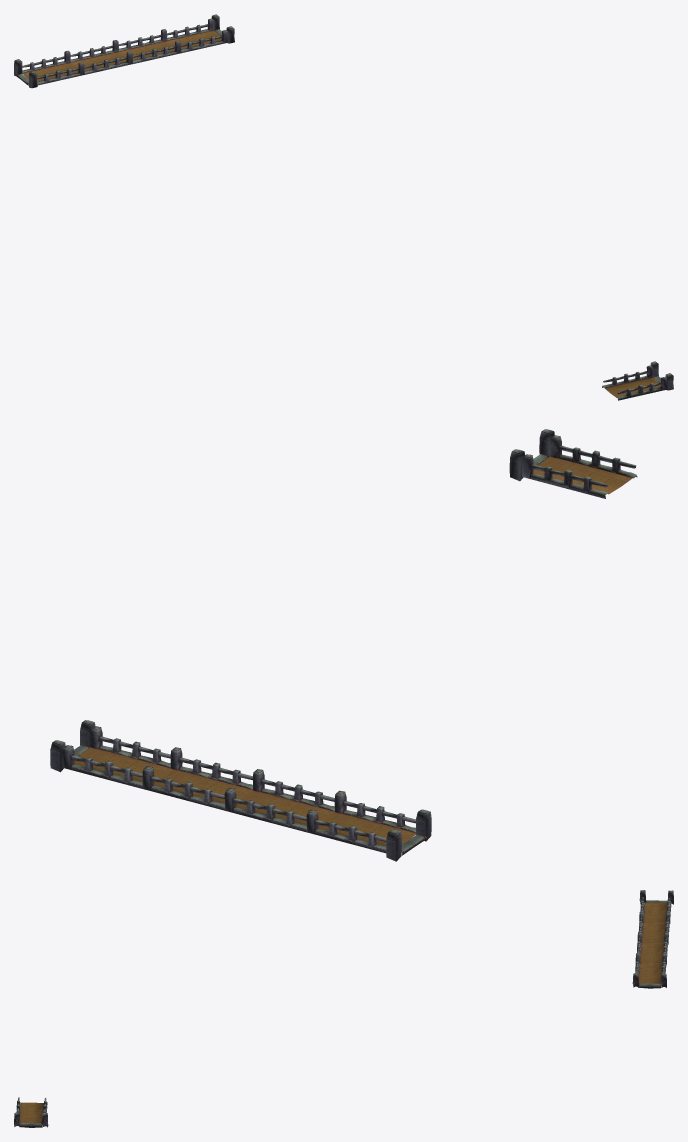
The model's file is Bridge.FBX.
The picture shows the model from 3 angles, top to bottom: view 1: azimuth 30°, elevation 25°; view 2: azimuth 150°, elevation 25°; view 3: azimuth 270°, elevation 25°; orthographic projection. The views are drawn at different scales.
Visible parts, largest first — view 1: Bridge_Low001; view 2: Bridge_Low001; view 3: Bridge_Low001.
Boxes of the visible parts, x1,y1,x2,y2 form: Bridge_Low001: [14, 14, 673, 400]; Bridge_Low001: [50, 429, 637, 861]; Bridge_Low001: [14, 890, 673, 1127].
Bounding box in the file's own units: 149 × 63.35 × 331.
